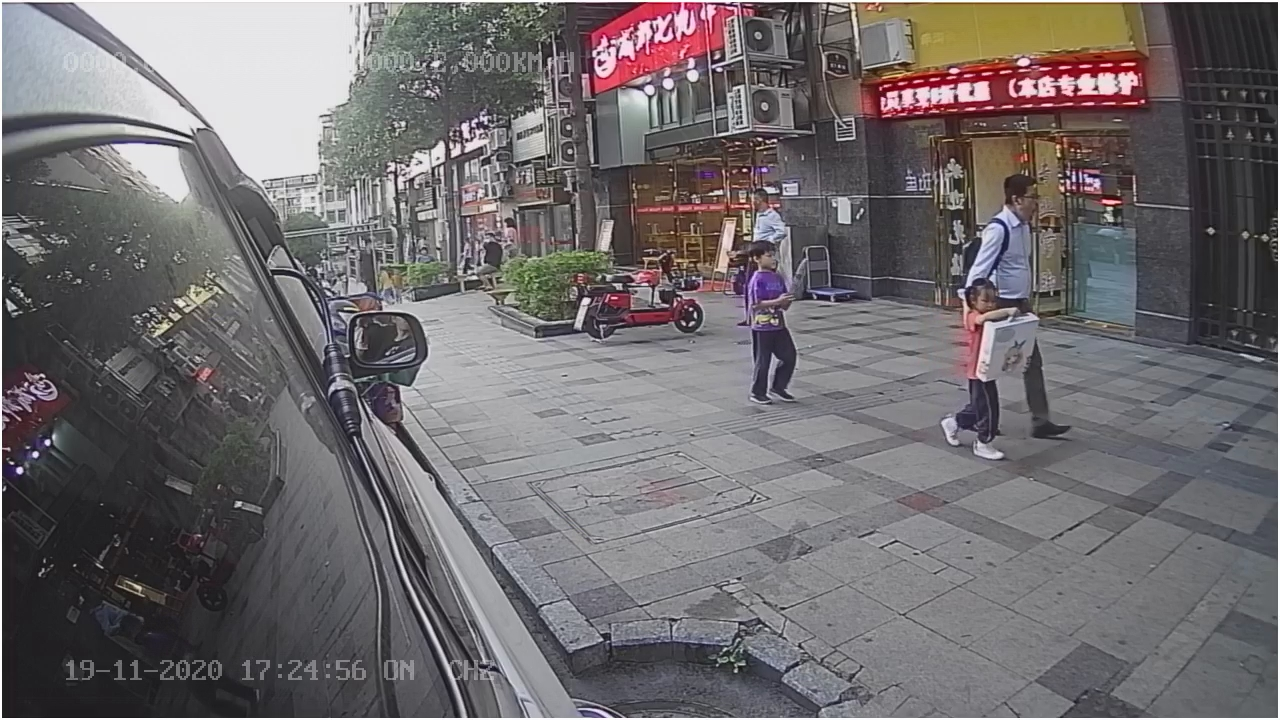person: (735, 239, 807, 405), (969, 171, 1041, 281)
